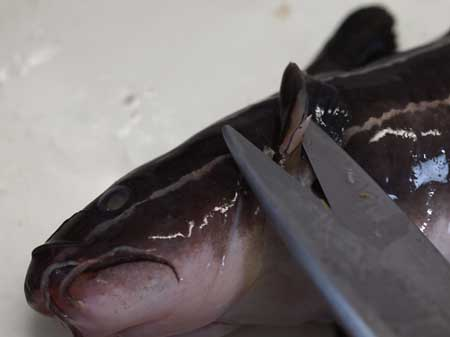gonzui: (22, 56, 437, 329)
